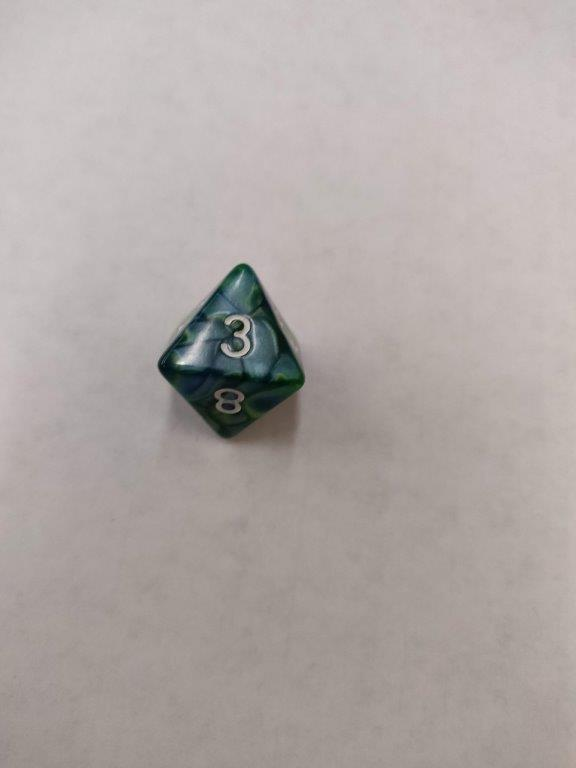d8-3: (157, 261, 308, 441)
